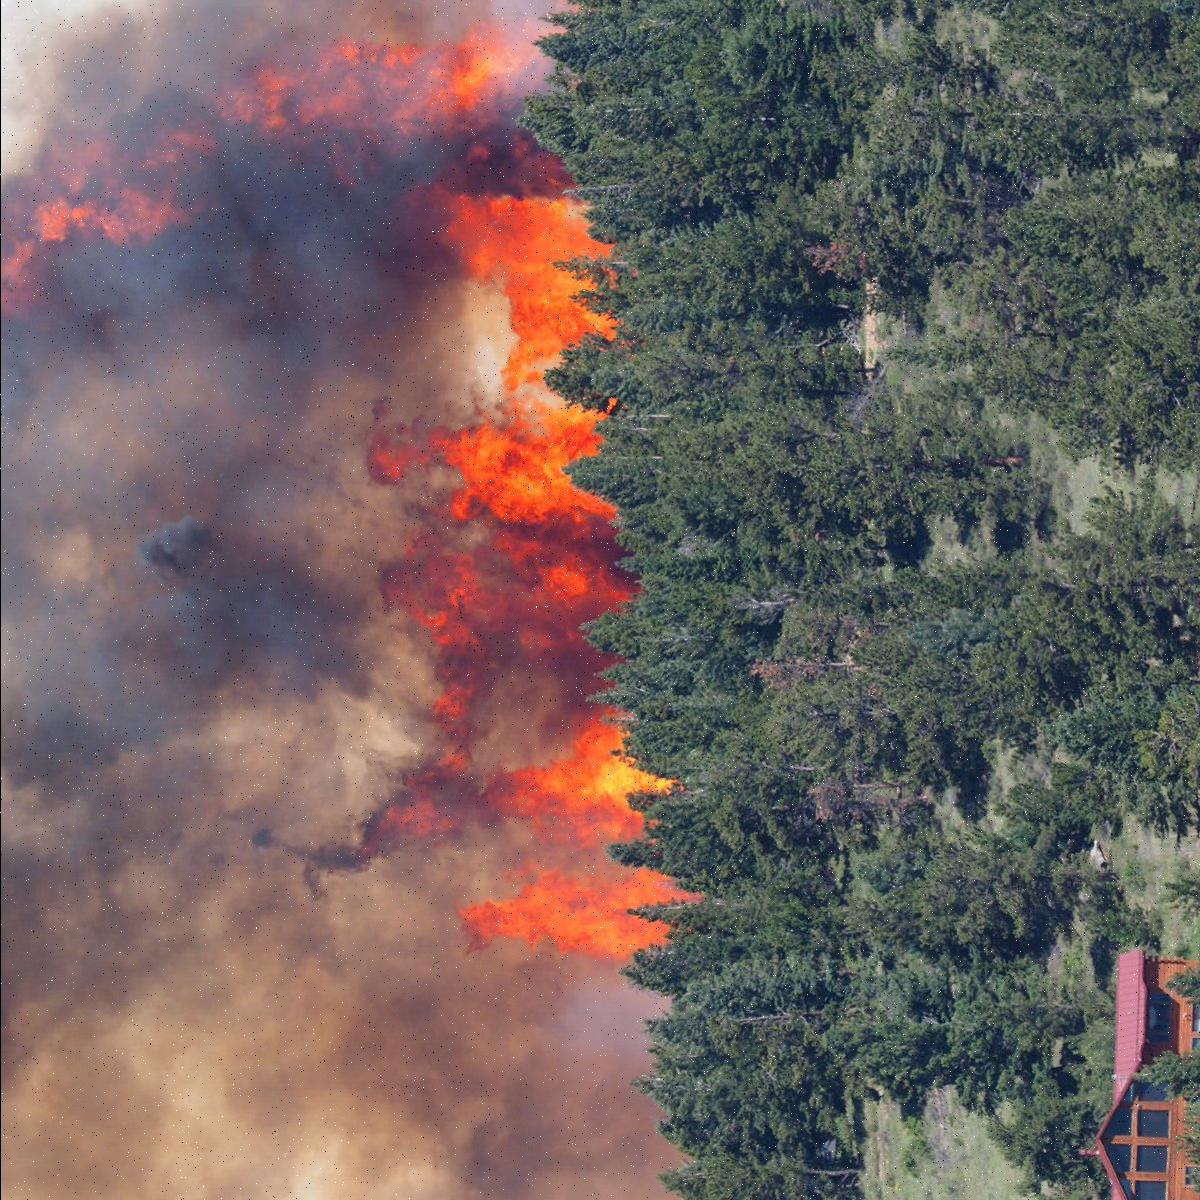fire: (336, 0, 653, 1010)
